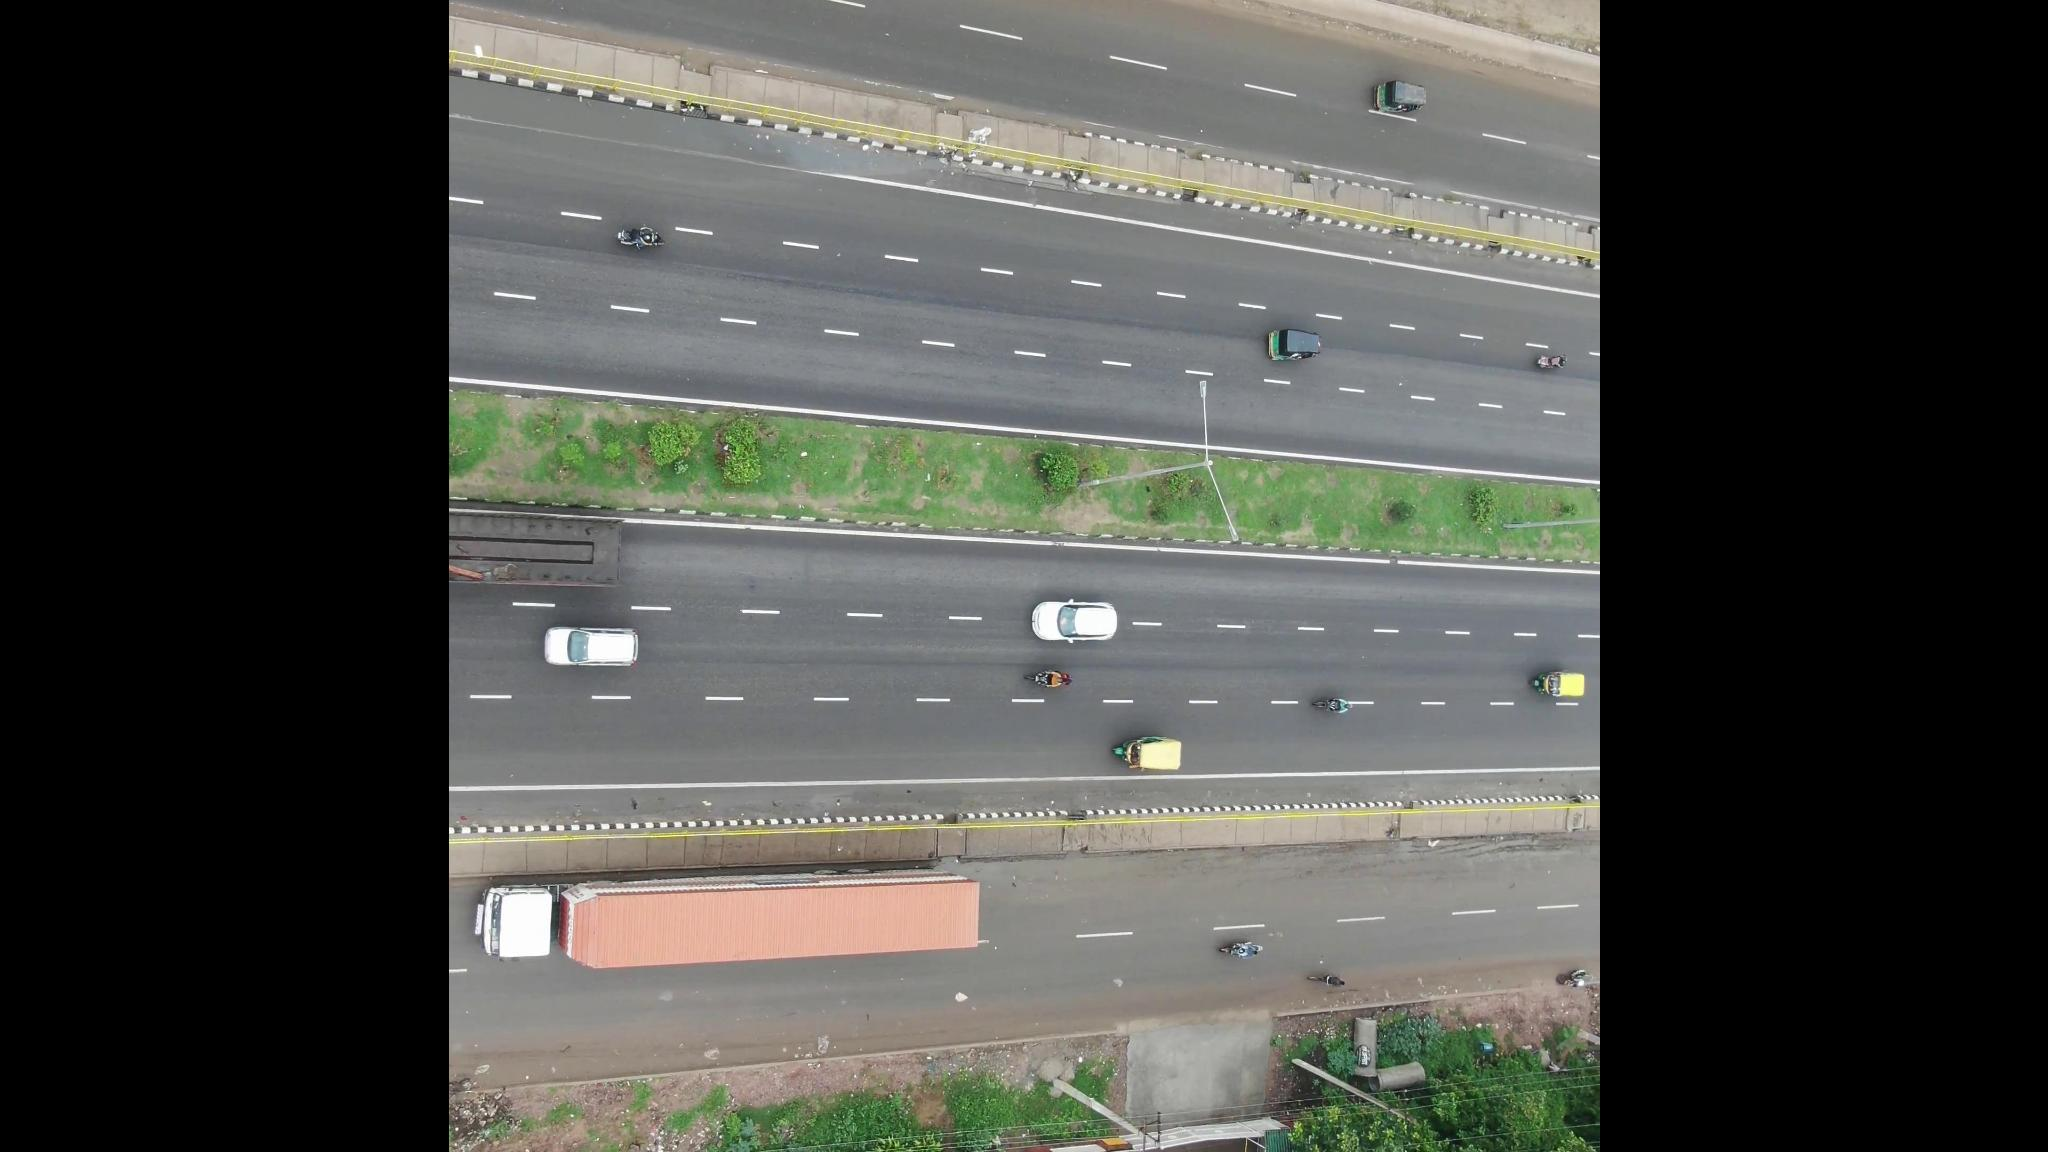Muddy_road: (1273, 836, 1543, 904), (463, 1017, 630, 1082), (648, 1001, 814, 1063), (1362, 954, 1530, 1011), (850, 989, 1017, 1047)
